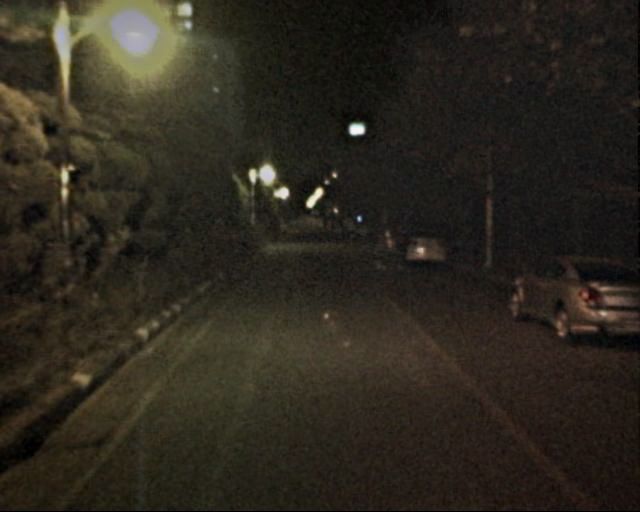person: (391, 223, 412, 273), (372, 226, 391, 272), (322, 220, 349, 242), (278, 217, 289, 243)
